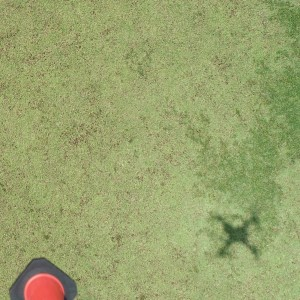traffic cone: (9, 258, 77, 300)
